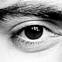eye: (26, 26, 42, 39)
